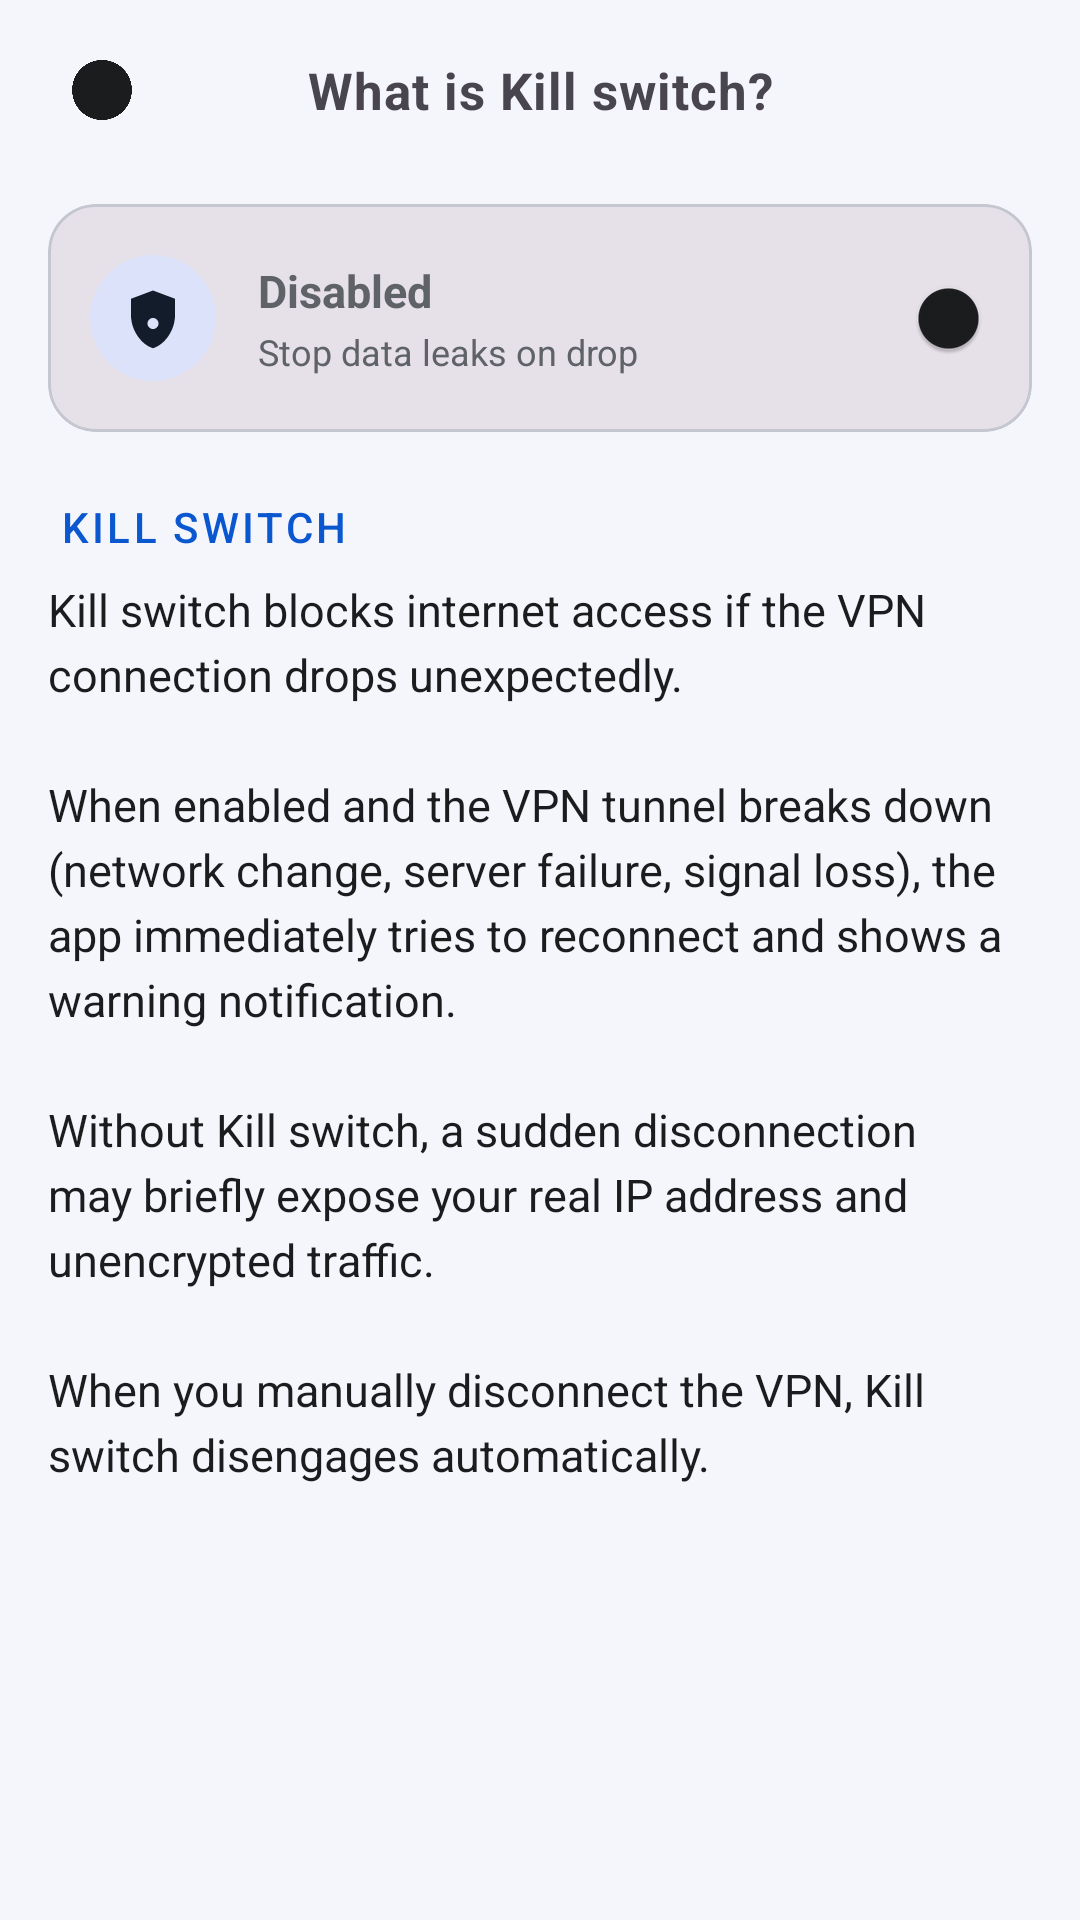

Icons on this 1080 × 1920 Android screen, each with the point to tap as (x=x, y=y):
shield: (x=153, y=319)
